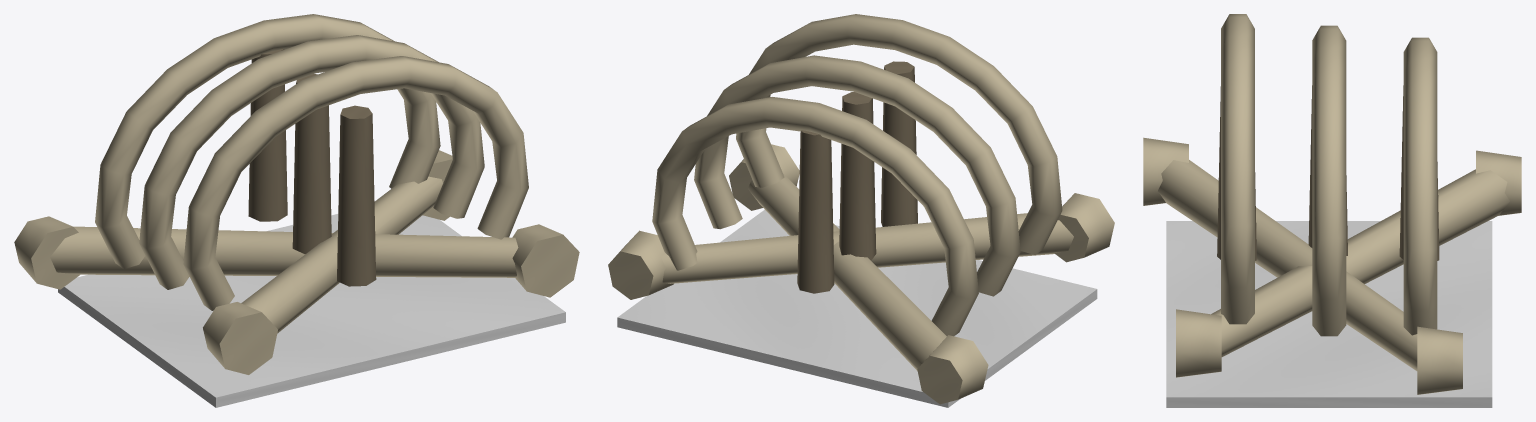
The model's file is sk-bone-pile.glb.
3 views of the same model, side by side, from view 1: azimuth 30°, elevation 25°; view 2: azimuth 150°, elevation 25°; view 3: azimuth 270°, elevation 25° (orthographic). The views are drawn at different scales.
Visible parts, largest first — view 1: settlement:bone_pile-static-bone (×2), bone-pile-shadow; view 2: settlement:bone_pile-static-bone (×2), bone-pile-shadow; view 3: settlement:bone_pile-static-bone (×2), bone-pile-shadow.
Boxes of the visible parts, bbox=[...] form: settlement:bone_pile-static-bone (×2): bbox=[14, 14, 579, 374]; bone-pile-shadow: bbox=[58, 214, 565, 407]; settlement:bone_pile-static-bone (×2): bbox=[608, 14, 1114, 404]; bone-pile-shadow: bbox=[617, 209, 1097, 407]; settlement:bone_pile-static-bone (×2): bbox=[1143, 14, 1521, 394]; bone-pile-shadow: bbox=[1166, 221, 1492, 407].
Bounding box in the file's own units: 0.7572 × 0.4795 × 0.58.
3 materials, 3 textured.
